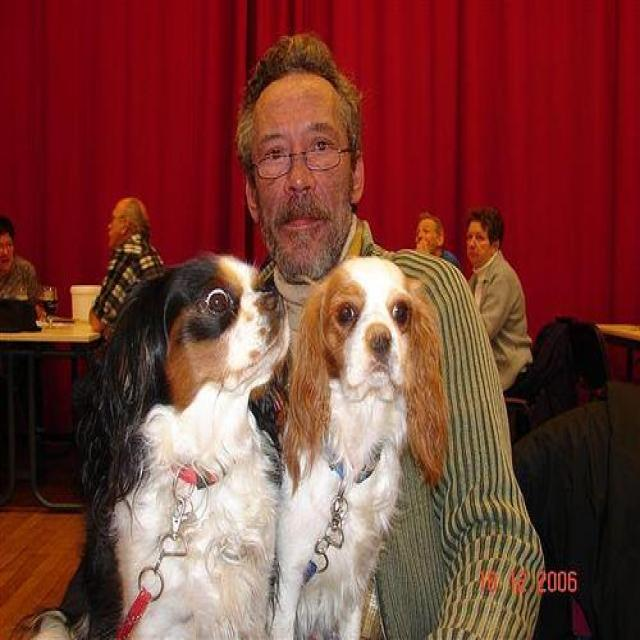blenheim_spaniel: (55, 251, 293, 638), (268, 261, 446, 637)
